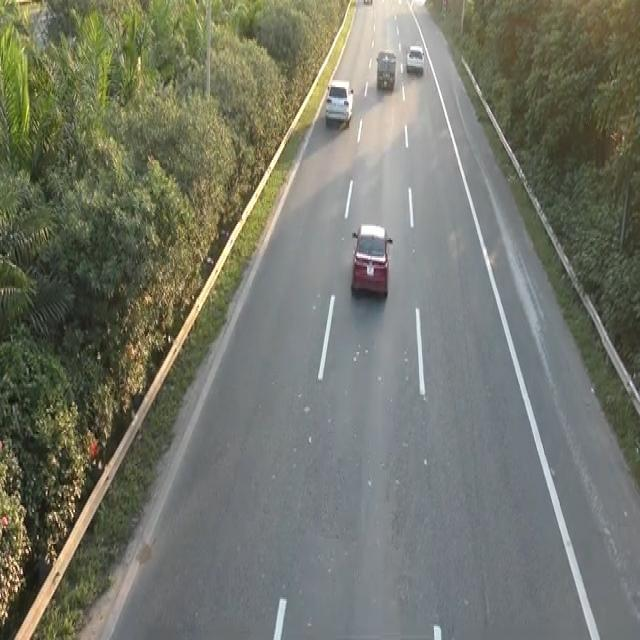bus: (348, 218, 395, 306), (324, 76, 353, 126), (405, 43, 425, 73)
minivan: (375, 48, 396, 91)
